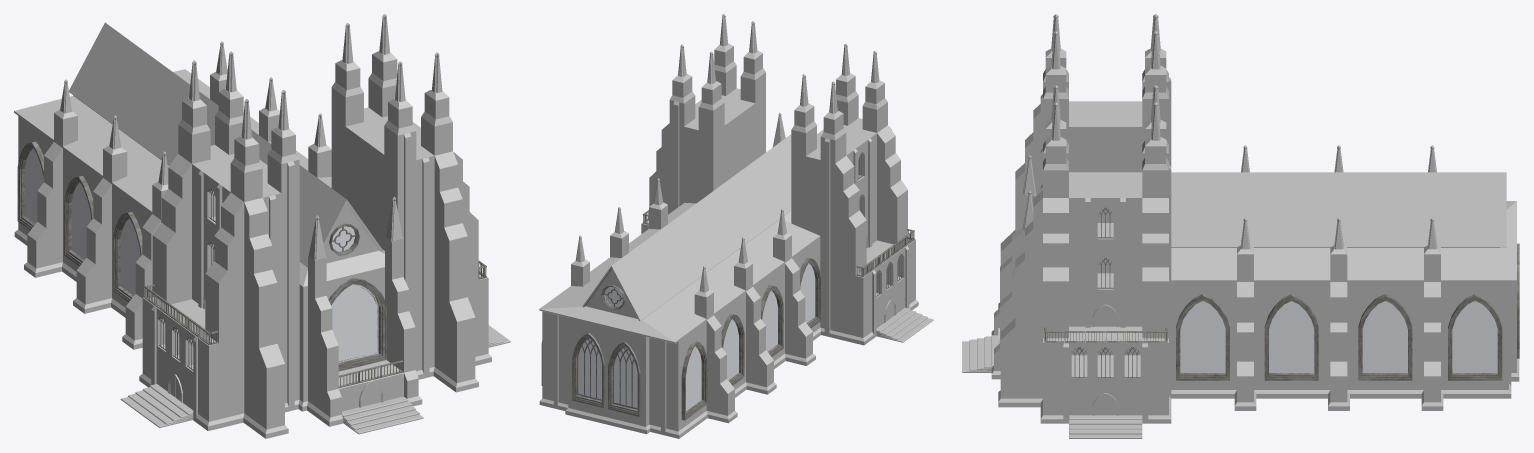
File: Cathedral.fbx
3 views of the same model, side by side, from view 1: azimuth 30°, elevation 25°; view 2: azimuth 150°, elevation 25°; view 3: azimuth 270°, elevation 25° (orthographic). The views are drawn at different scales.
Parts seen in each view (by area): view 1: Cathedral_OuterWalls, Cathedral_Roof, Cathedral_Ceiling, Cathedral_Window, Cathedral_Tower, Cathedral_WindowFrame, Cathedral_Stairs, Cathedral_OuterFence, Cathedral_Door, Cathedral_WindowFrame02; view 2: Cathedral_OuterWalls, Cathedral_Roof, Cathedral_Ceiling, Cathedral_Window, Cathedral_WindowFrame, Cathedral_Tower, Cathedral_WindowFrame02, Cathedral_Stairs, Cathedral_OuterFence; view 3: Cathedral_OuterWalls, Cathedral_Roof, Cathedral_Window, Cathedral_Ceiling, Cathedral_WindowFrame, Cathedral_Tower, Cathedral_Stairs, Cathedral_Door, Cathedral_OuterFence, Cathedral_WindowFrame02.
Boxes of the visible parts, <box> form: Cathedral_OuterWalls: <box>14,51,491,438</box>; Cathedral_Roof: <box>69,22,383,266</box>; Cathedral_Ceiling: <box>14,69,384,288</box>; Cathedral_Window: <box>25,148,378,362</box>; Cathedral_Tower: <box>60,14,442,259</box>; Cathedral_WindowFrame: <box>17,141,386,371</box>; Cathedral_Stairs: <box>120,325,510,434</box>; Cathedral_OuterFence: <box>144,260,486,387</box>; Cathedral_Door: <box>168,293,384,407</box>; Cathedral_WindowFrame02: <box>159,188,378,370</box>; Cathedral_OuterWalls: <box>539,44,918,438</box>; Cathedral_Roof: <box>582,134,791,320</box>; Cathedral_Ceiling: <box>539,202,820,343</box>; Cathedral_Window: <box>578,263,815,411</box>; Cathedral_WindowFrame: <box>541,257,821,420</box>; Cathedral_Tower: <box>575,14,879,292</box>; Cathedral_WindowFrame02: <box>577,152,903,409</box>; Cathedral_Stairs: <box>876,307,933,342</box>; Cathedral_OuterFence: <box>642,210,914,277</box>; Cathedral_OuterWalls: <box>991,49,1519,423</box>; Cathedral_Roof: <box>1171,172,1506,247</box>; Cathedral_Window: <box>1180,301,1497,372</box>; Cathedral_Ceiling: <box>1171,201,1516,281</box>; Cathedral_WindowFrame: <box>1176,243,1519,380</box>; Cathedral_Tower: <box>1023,14,1437,249</box>; Cathedral_Stairs: <box>962,335,1142,438</box>; Cathedral_Door: <box>998,304,1118,415</box>; Cathedral_OuterFence: <box>1044,327,1167,342</box>; Cathedral_WindowFrame02: <box>1071,207,1140,378</box>.
Size of the model in its own units: 4868 by 4165 by 7023.
